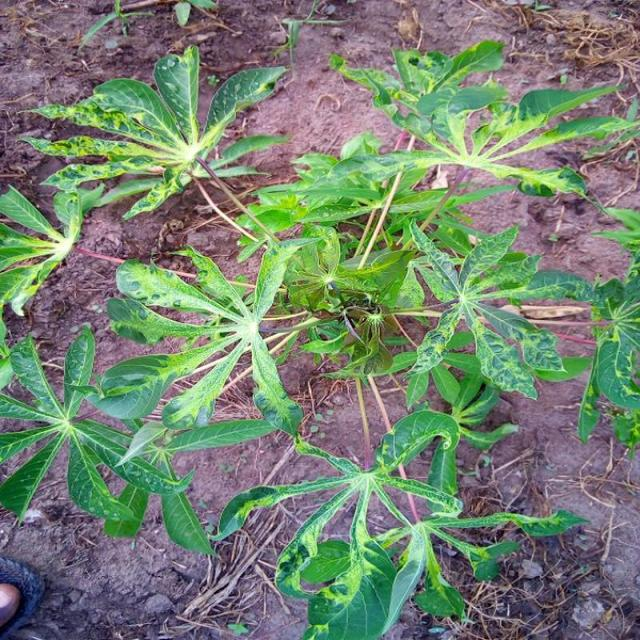cassava leaf: (1, 36, 636, 637)
